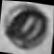correct: (2, 0, 50, 54)
